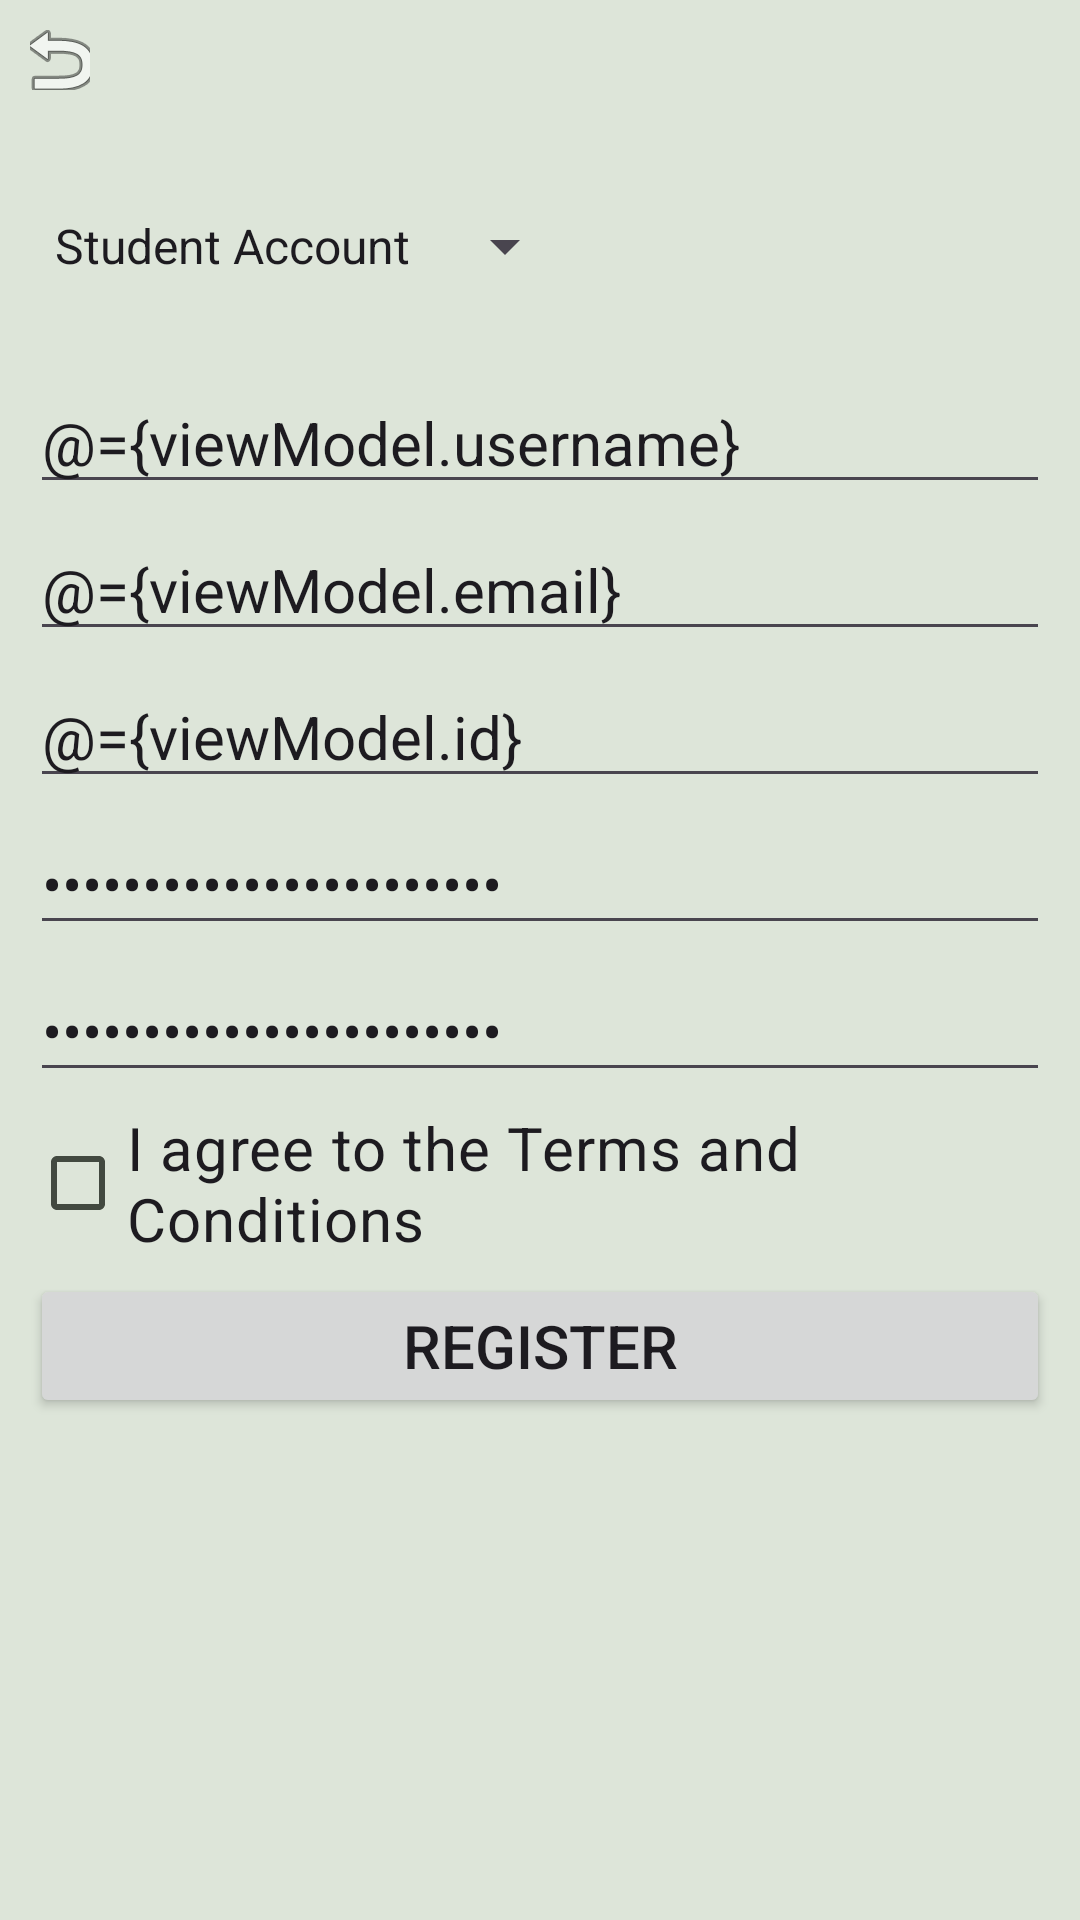

Screen size 1080×1920. Icon name, then its center in pixels as (x,y):
revert: (60,60)
